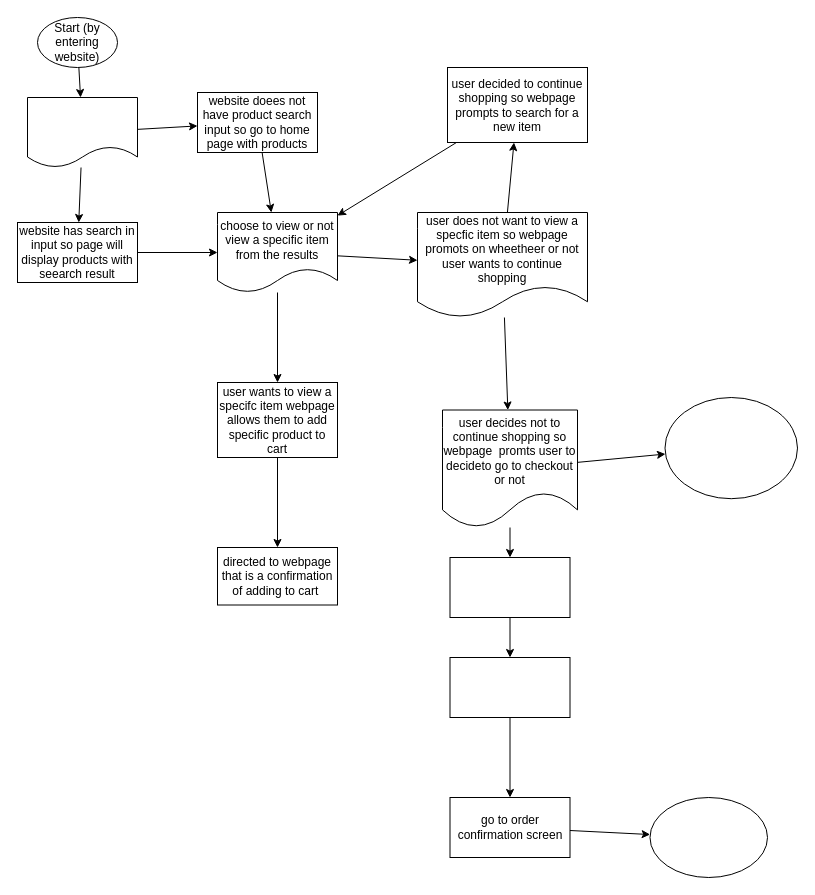
Image size: 815x895. Some labels were removed from this diagram. Here are the shapes that lost their labels. From the top down, the box of each, then its label:
(26, 96, 138, 168): User decides to provide input in website
(664, 396, 798, 499): End (user chose to not proceed to checkout so leave website)
(449, 556, 570, 618): user decided to go to checkout so get to View Cart Screen
(449, 656, 570, 718): go to View Payment screen and input details
(649, 796, 768, 878): End (user leave website)
